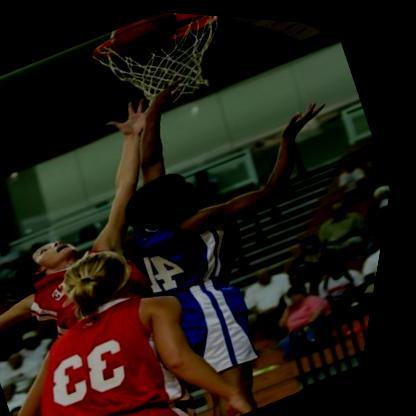basketball: (104, 6, 188, 67)
